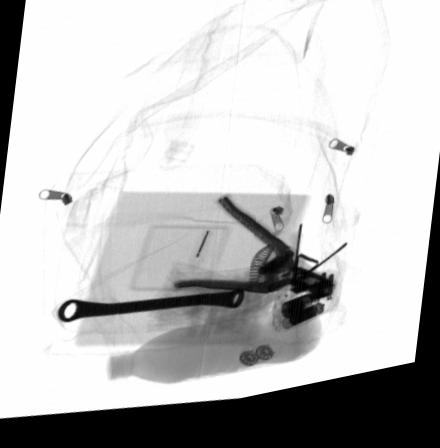Pliers: (172, 204, 340, 320)
Wrench: (56, 297, 246, 323)
